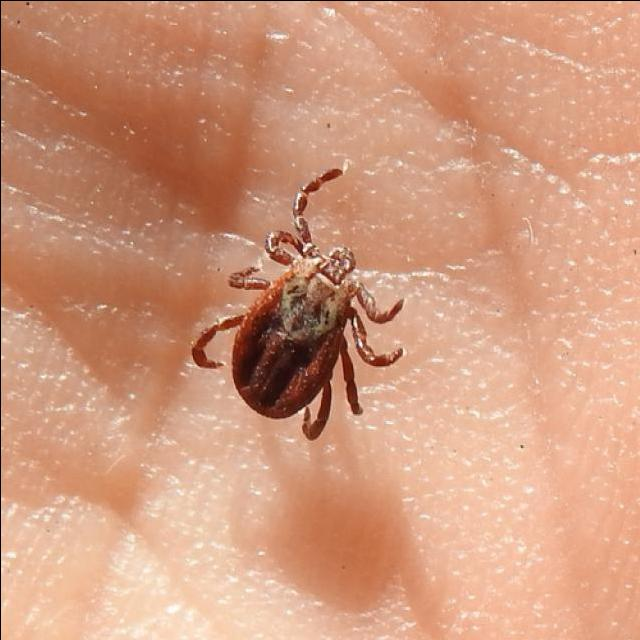Dermacentor Reticulatus-F: (189, 168, 403, 441)
